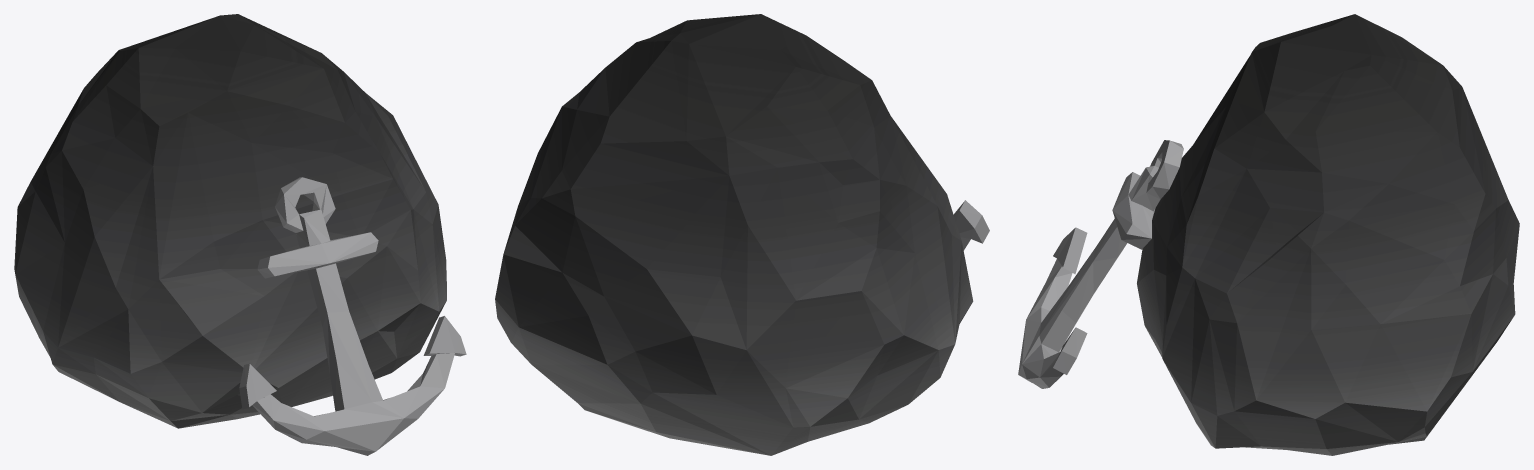
Rendered from EA_Grave_Rock_01a.fbx.
3 renders of one model, left to right at view 1: azimuth 30°, elevation 25°; view 2: azimuth 150°, elevation 25°; view 3: azimuth 270°, elevation 25°, orthographic. The views are drawn at different scales.
Visible parts, largest first — view 1: EA_Grave_Rock_01a_LOD0; view 2: EA_Grave_Rock_01a_LOD0; view 3: EA_Grave_Rock_01a_LOD0.
Part boxes in pixels (x1=…): EA_Grave_Rock_01a_LOD0: x1=14, y1=14, x2=466, y2=455; EA_Grave_Rock_01a_LOD0: x1=495, y1=14, x2=989, y2=455; EA_Grave_Rock_01a_LOD0: x1=1018, y1=14, x2=1519, y2=455.
Size of what is drawn, in the model's own units: 3.3 by 2.84 by 3.63.
